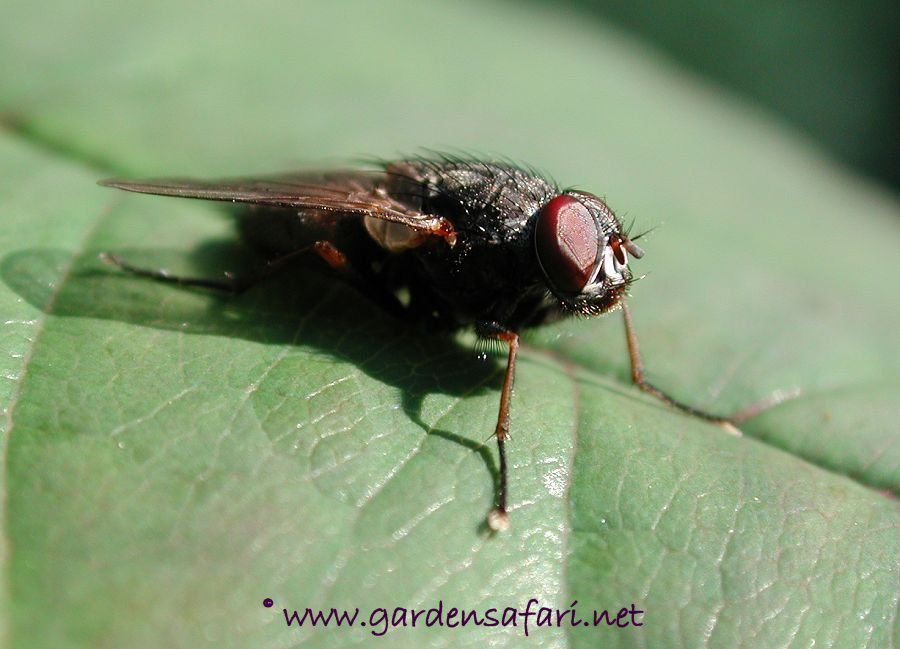green bottles flies: (78, 93, 806, 556)
